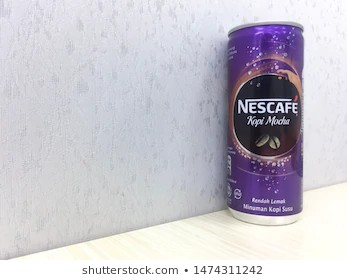nescafe-can: (222, 17, 306, 224)
